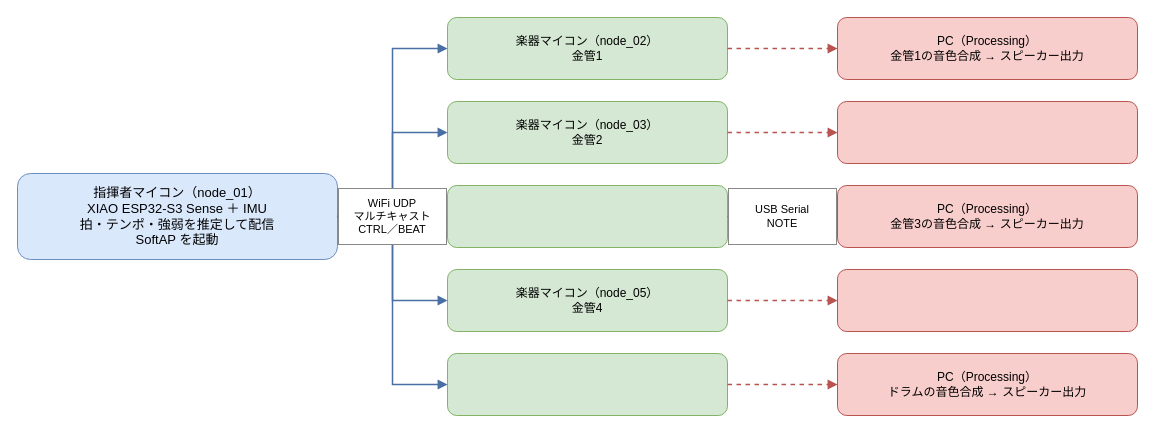
This 1155x433 diagram has some shape labels left out. The shapes that lost their labels are listed below. From the top down, each one's centre as x and y in pixels, then its label:
[987,132]: PC（Processing） 金管2の音色合成 → スピーカー出力
[587,216]: 楽器マイコン（node_04） 金管3
[987,300]: PC（Processing） 金管4の音色合成 → スピーカー出力
[587,384]: 楽器マイコン（node_06） ドラム
